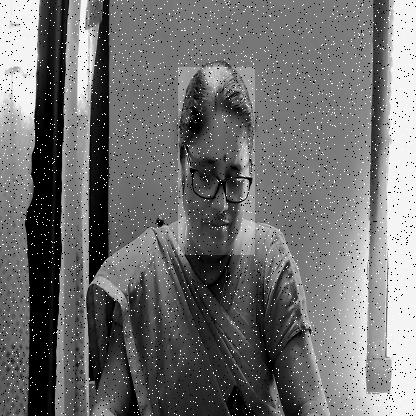Normal: (178, 67, 255, 255)
